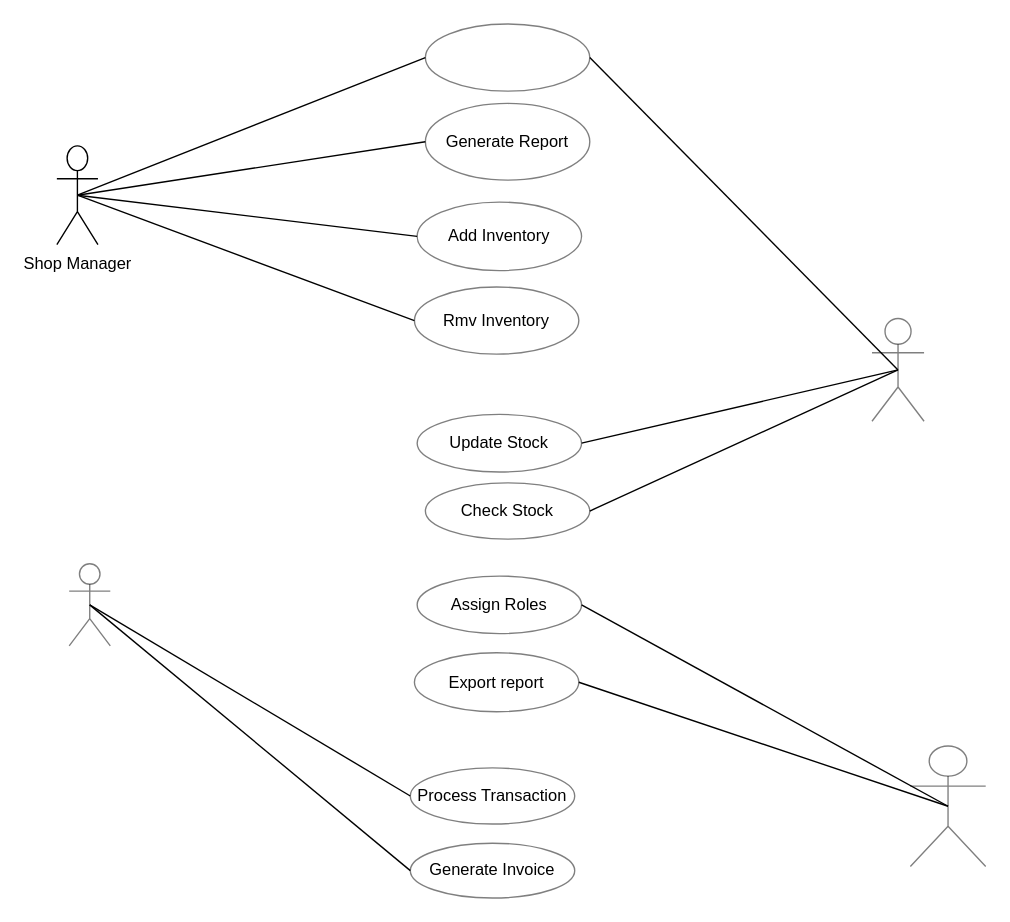
Some shapes in this 1010 by 922 pixel diagram are drawn without their labels. The box of each missing label's shape, as (x1, y1, x2, y2) in pixels:
Customer: (68, 562, 110, 646)
Emp: (871, 317, 924, 421)
Manage emp: (424, 23, 590, 91)
SYS ADM: (909, 745, 986, 867)
